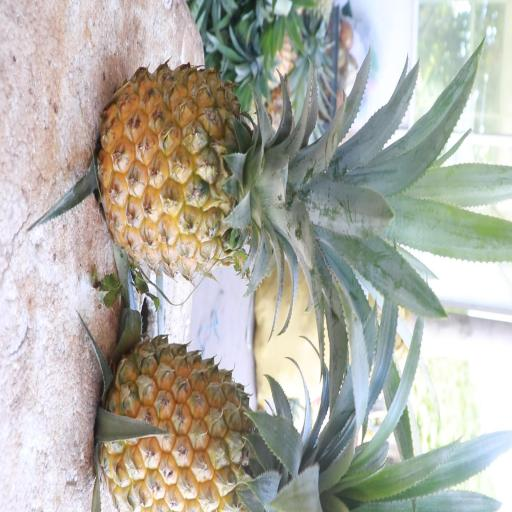Pineapple - v8 v1: (96, 54, 335, 284), (93, 337, 337, 512)
